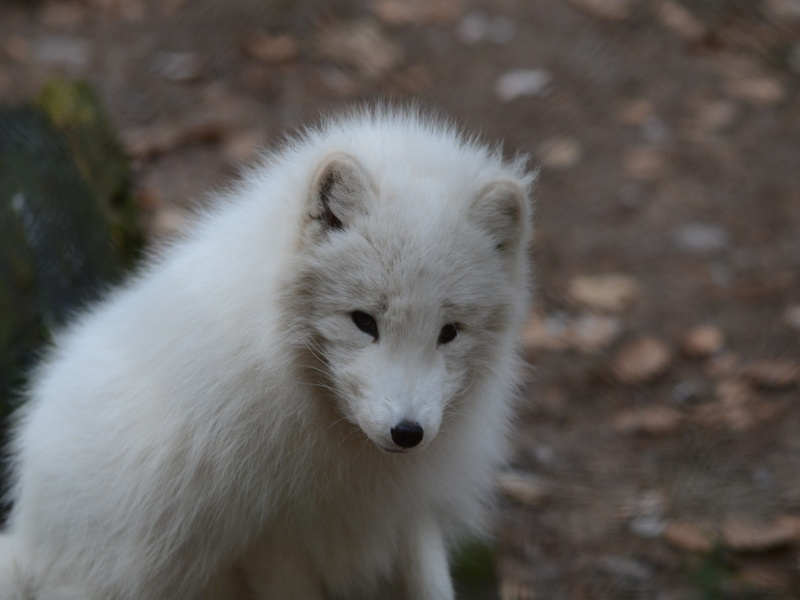fox: (24, 103, 532, 588)
